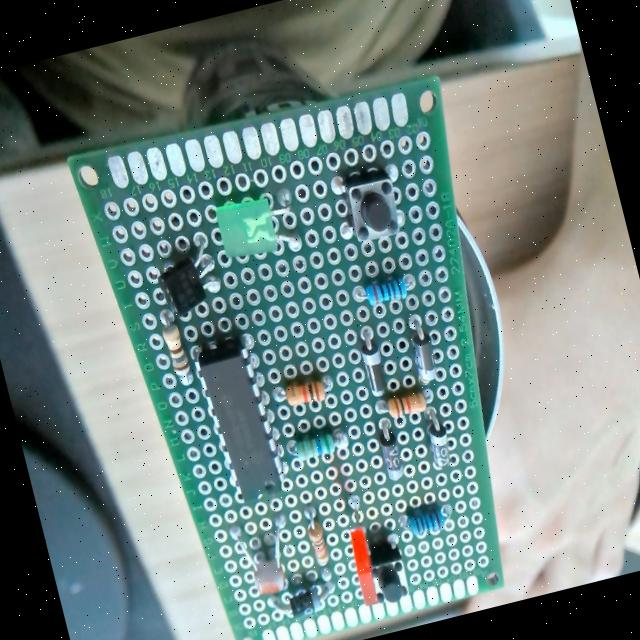IC: (195, 335, 282, 500)
cds: (228, 511, 304, 602)
diode: (272, 578, 336, 622), (420, 405, 456, 470), (406, 328, 442, 385), (357, 336, 390, 397), (378, 427, 408, 482)
led: (212, 188, 302, 267), (335, 502, 383, 609)
resistor: (402, 500, 451, 540), (160, 321, 192, 381), (361, 275, 410, 309), (290, 428, 338, 462), (284, 376, 327, 408), (386, 388, 428, 419), (306, 520, 331, 566)
switch: (340, 166, 406, 245), (363, 532, 412, 606)
transistor: (150, 232, 226, 318)
